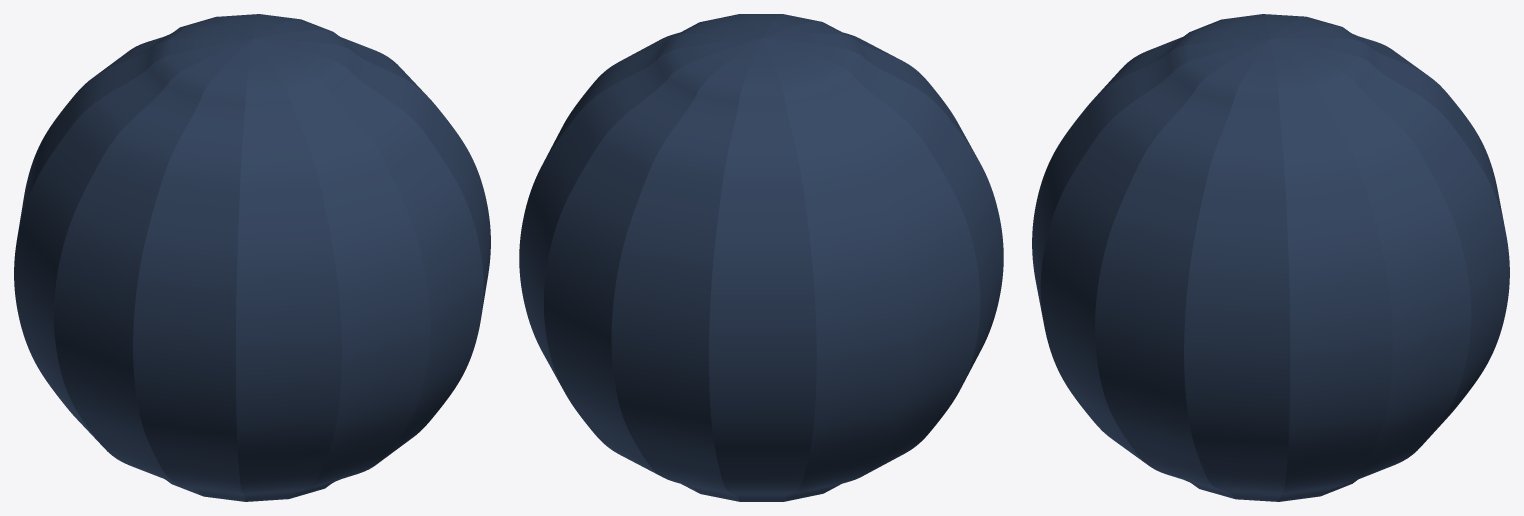
3 renders of one model, left to right at view 1: azimuth 30°, elevation 25°; view 2: azimuth 150°, elevation 25°; view 3: azimuth 270°, elevation 25°, orthographic.
Parts seen in each view (by area): view 1: faceted_orb; view 2: faceted_orb; view 3: faceted_orb.
Part boxes in pixels (x1=…): faceted_orb: x1=14, y1=14, x2=490, y2=501; faceted_orb: x1=519, y1=14, x2=1003, y2=501; faceted_orb: x1=1032, y1=14, x2=1509, y2=501.
Bounding box in the file's own units: 7.97 × 8 × 7.92.
